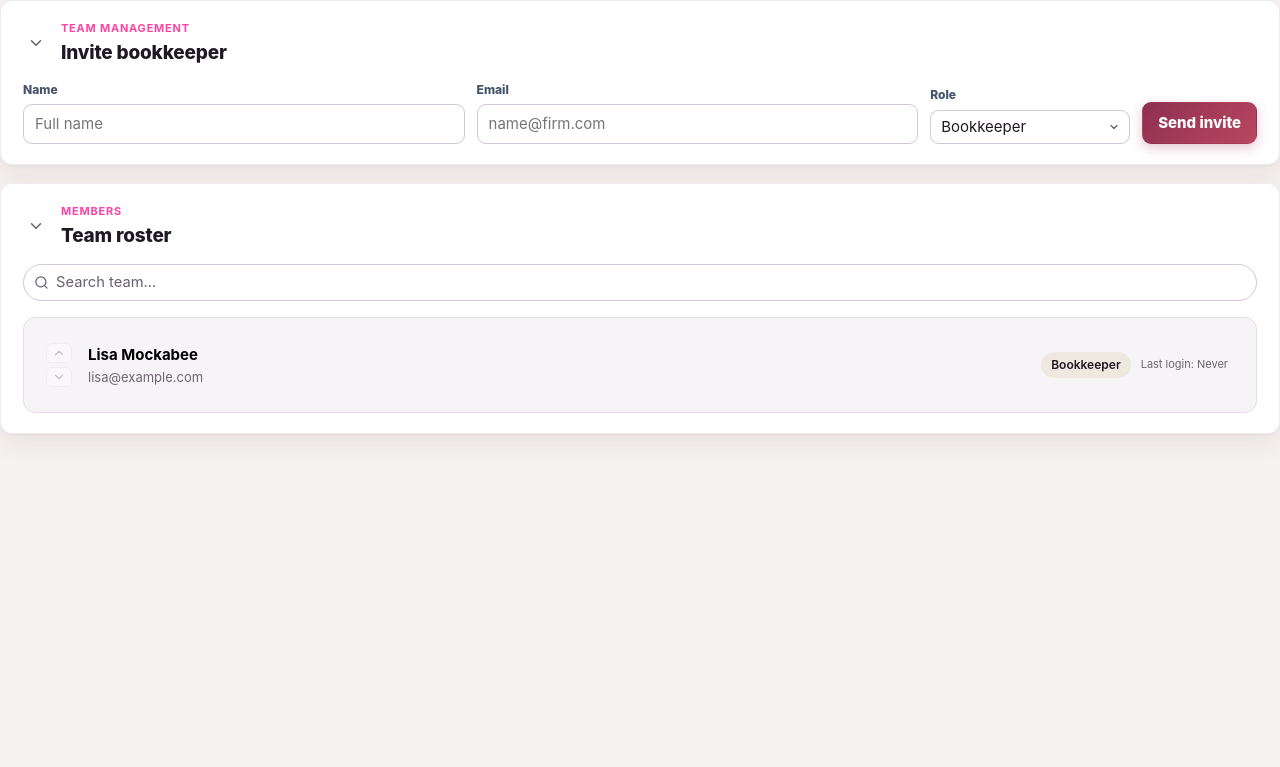
placement › names the money it gates
Click the button with class "team-card-header": (143, 354) [72,330,1244,400]
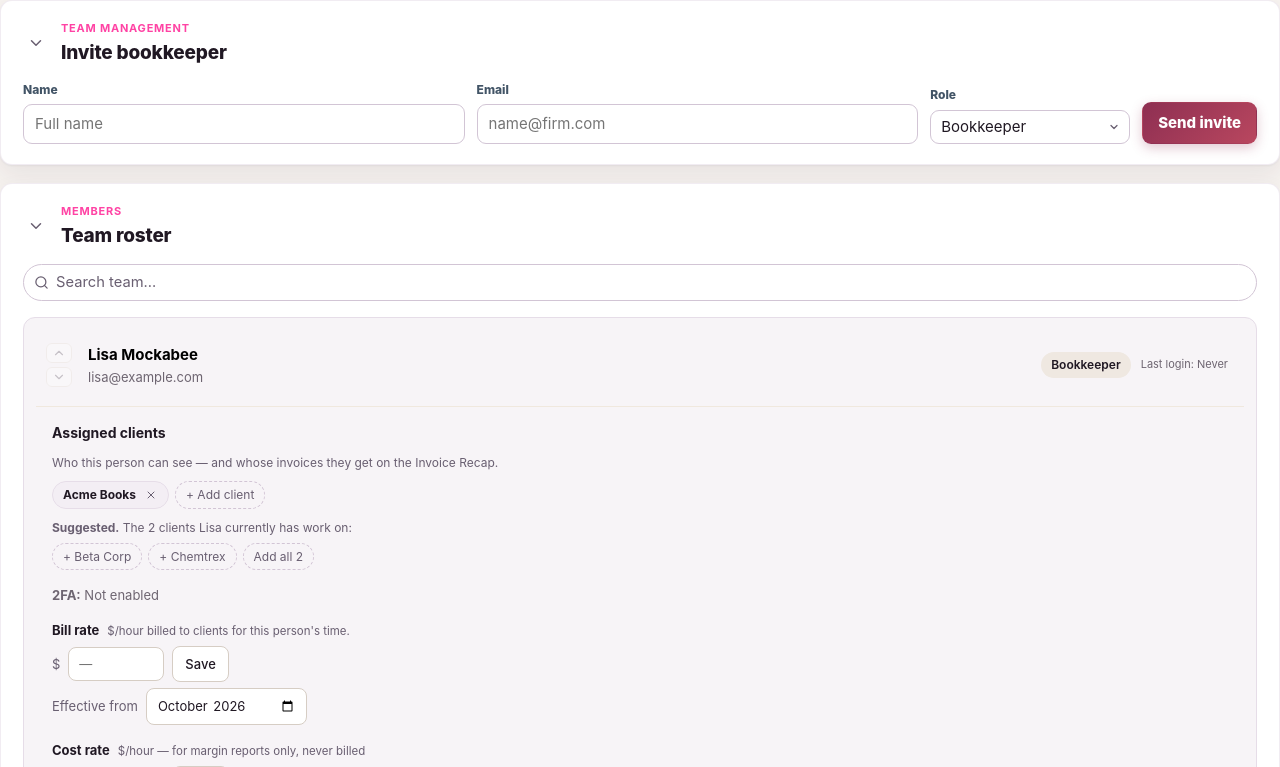
Now the heading "Assigned clients" is shown, box [52,424,166,441]
Now the text "whose invoices they get on the Invoice Recap" is shown, box [52,455,498,470]
